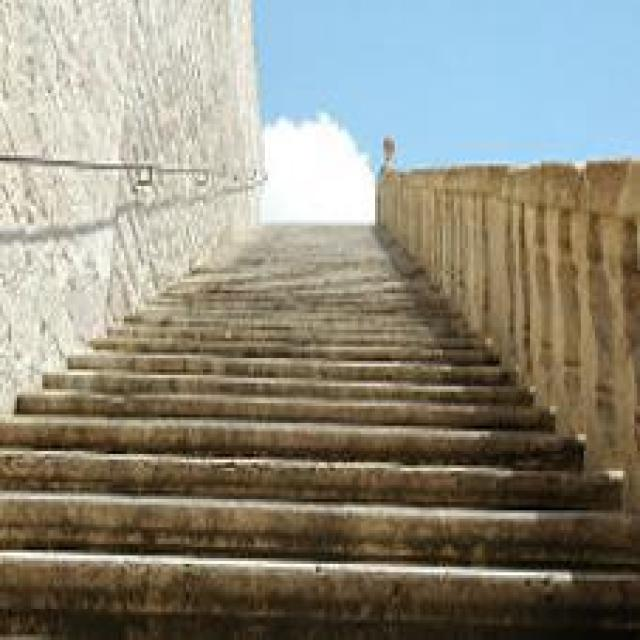upstair: (4, 334, 632, 610)
